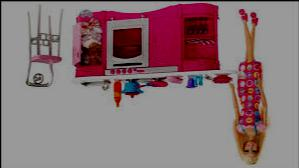Plastic: (69, 1, 226, 107), (229, 8, 270, 164), (24, 4, 62, 92)
